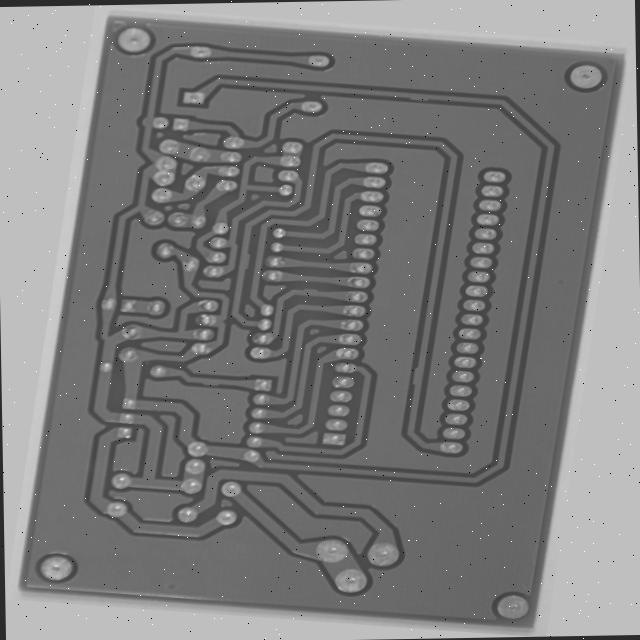spur: (208, 252, 231, 275), (375, 65, 410, 79), (431, 358, 451, 382), (187, 389, 222, 402), (288, 283, 312, 299)
